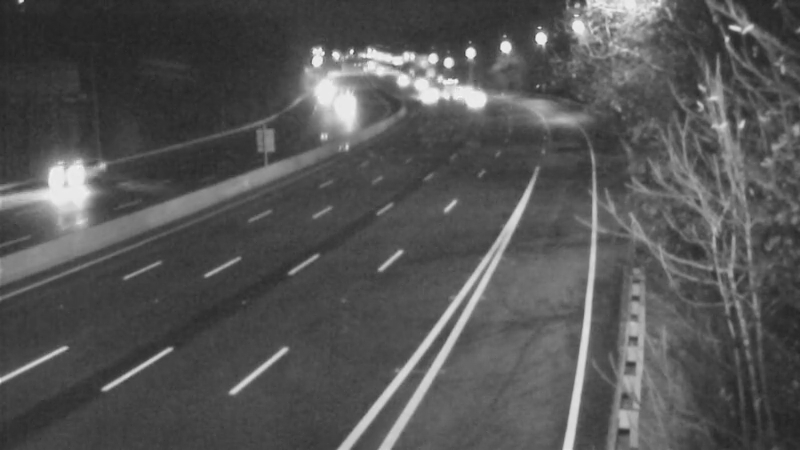vehicle: (24, 138, 104, 218), (378, 54, 428, 104), (395, 58, 445, 108), (420, 62, 470, 112), (404, 75, 454, 125), (445, 71, 495, 121), (317, 80, 367, 130)
